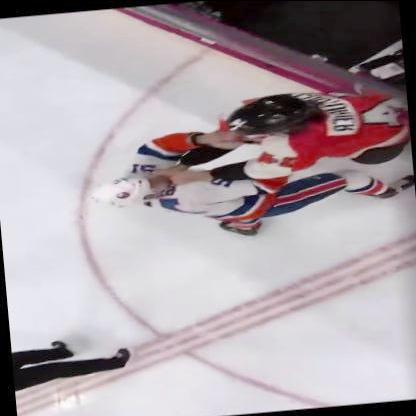voilence: (76, 83, 415, 251)
